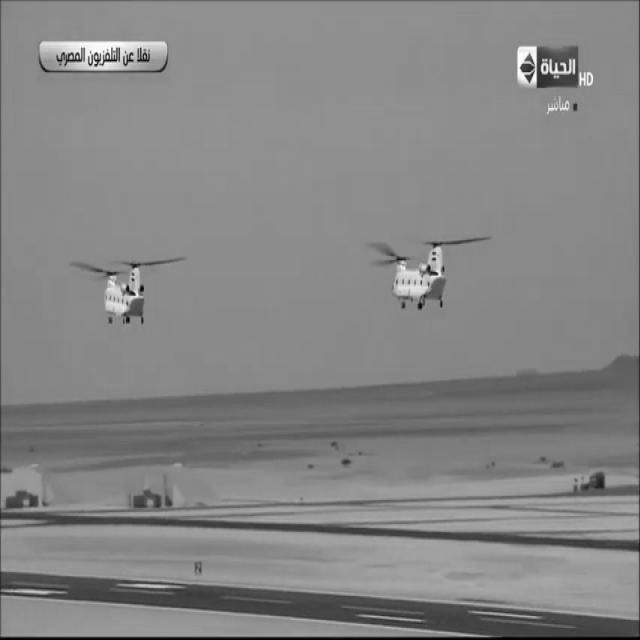helikopter: (356, 213, 486, 331), (82, 238, 174, 346)
